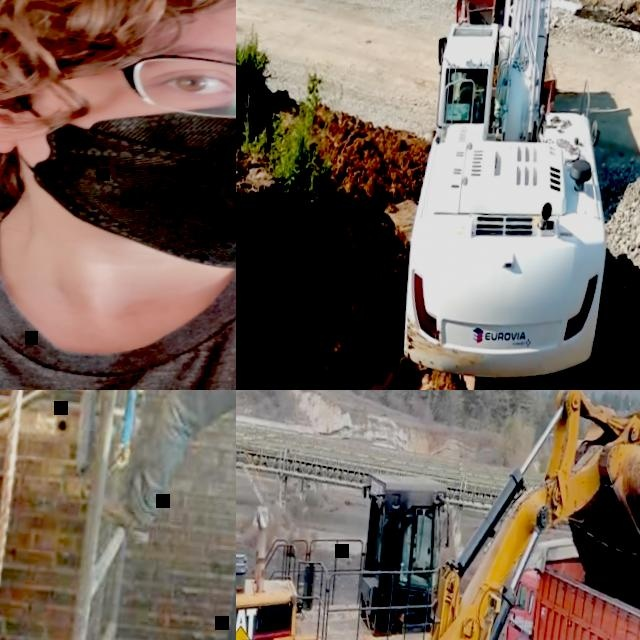Mask: (0, 68, 236, 289)
NO-Safety Vest: (0, 202, 236, 390), (399, 534, 411, 568)
Person: (0, 0, 236, 390), (81, 390, 236, 631), (395, 525, 436, 603)
machinery: (236, 390, 640, 640), (395, 0, 640, 389), (481, 527, 640, 640)
